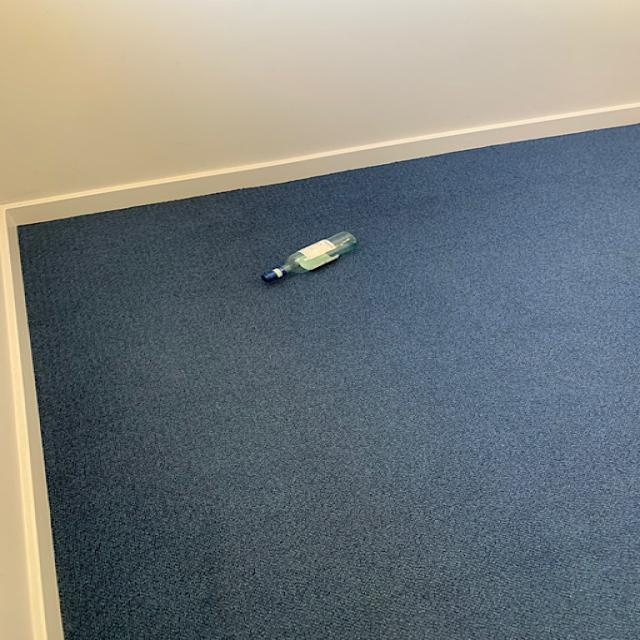litter: (264, 228, 364, 281)
